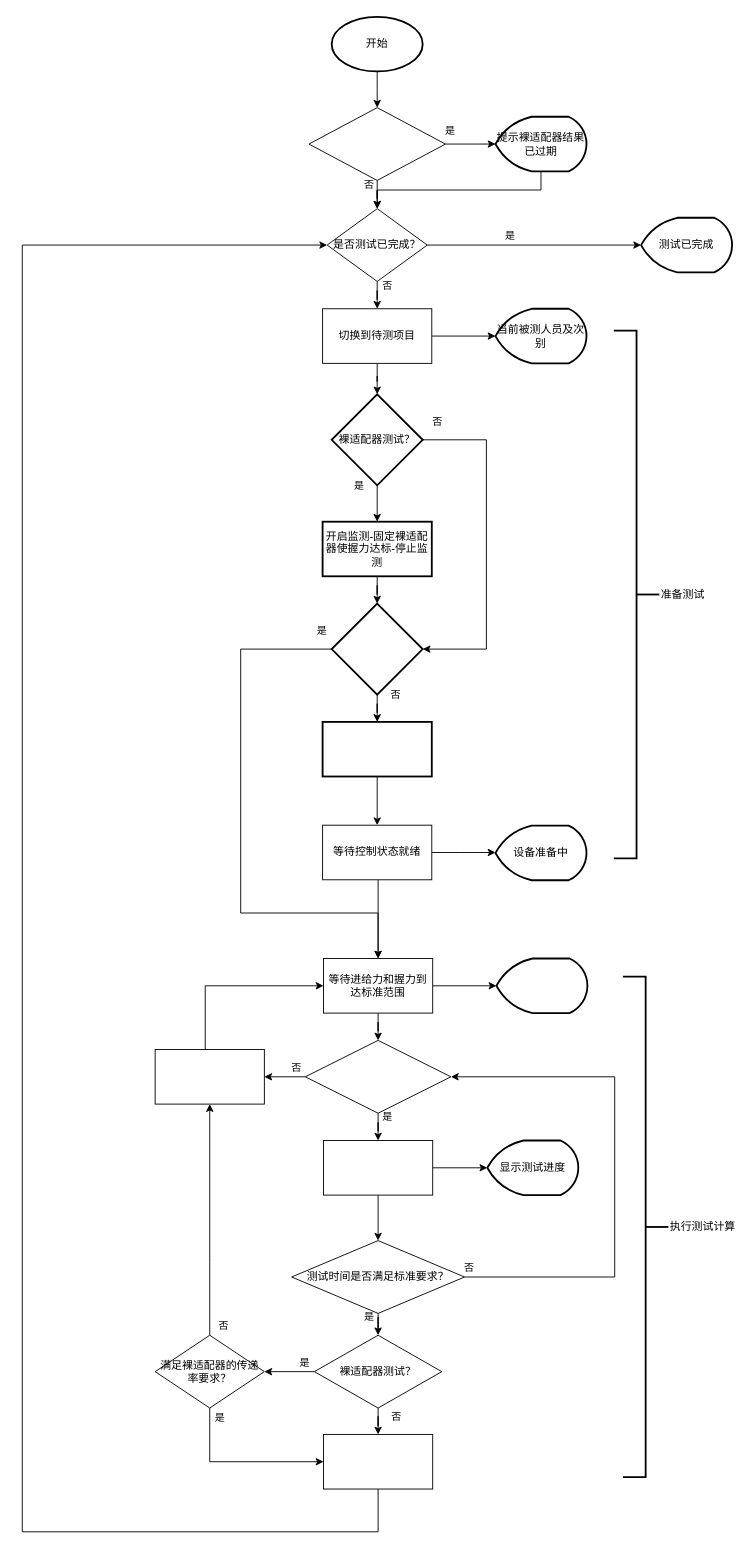
The diagram is 752 pixels wide and 1555 high, and some of its shapes have lost their labels. The centre of each missing label's shape, as x and y in pixels:
"执行计算" belongs at [378,1167].
"控制状态已就绪" belongs at [376,648].
"握紧手柄开始测试" belongs at [541,985].
"清空当前结果" belongs at [209,1076].
"等待开始控制分析" belongs at [376,749].
"裸适配器结果是否过期？" belongs at [376,143].
"记录当前测试结果" belongs at [378,1461].
"进给力和握力是否达标？" belongs at [377,1076].
